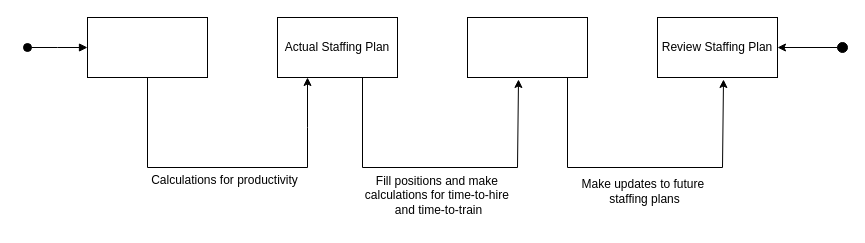
The diagram is 865 pixels wide and 243 high, and some of its shapes have lost their labels. Each missing label, with the centre of its shape:
"Proposed Staffing Plan" goes at [147,47].
"Updated Staffing Plan" goes at [527,47].
